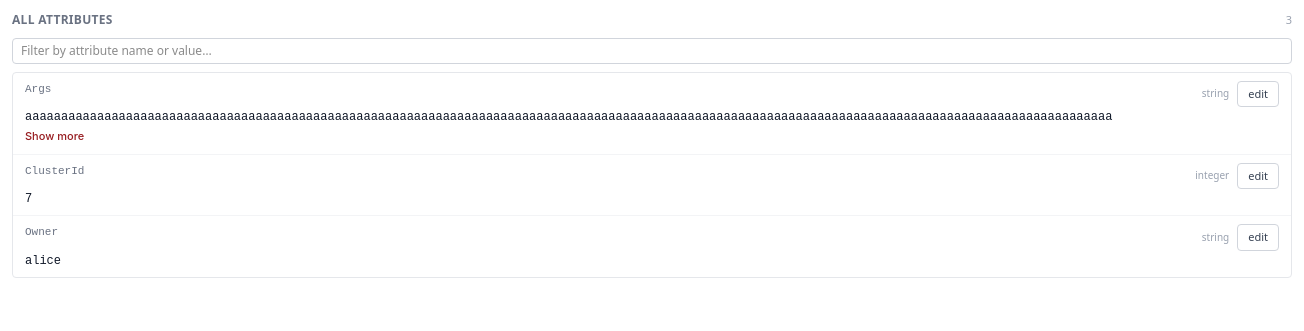
AttributesTable › on a phone › edits from a card
This screenshot has width=1304, height=331.
Click the button with aria-label "Edit Owner" at [1258, 237], box [1237,224,1279,251]
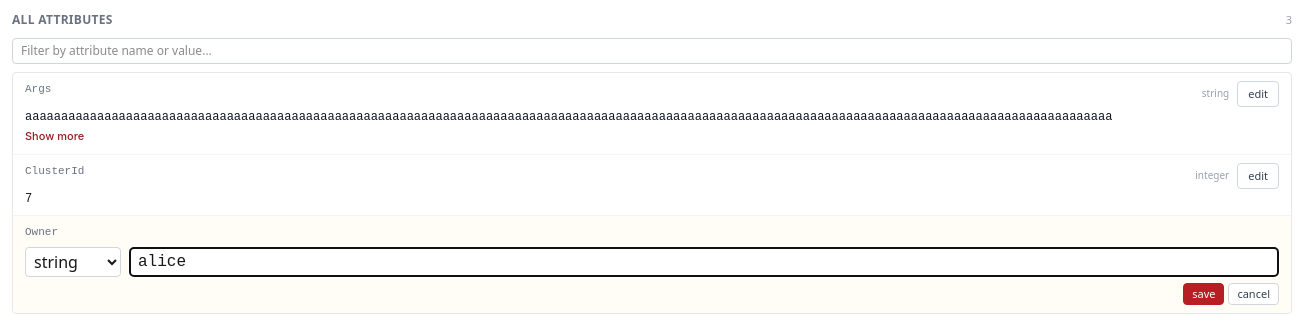
Check: the dropdown named "Attribute type" shows "string", box [25,247,121,277]
Check: the field showing "alice" is shown, box [129,247,1279,277]
Click the button "cancel" at [1254, 294], box [1228,283,1279,305]
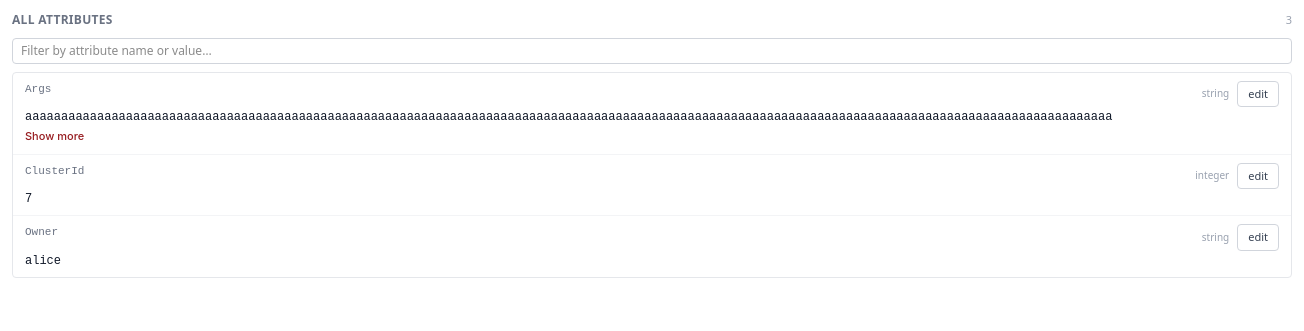
Check: the text "alice" is shown, box [25,254,61,268]
